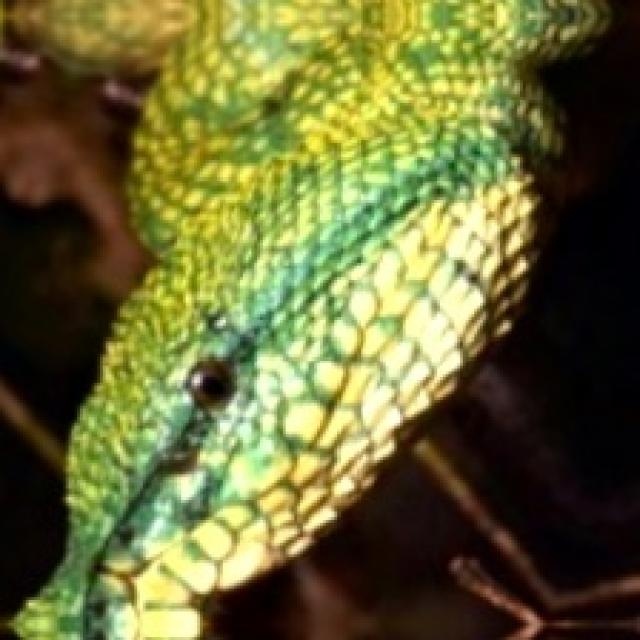north ph temple pitviper: (14, 0, 603, 637)
